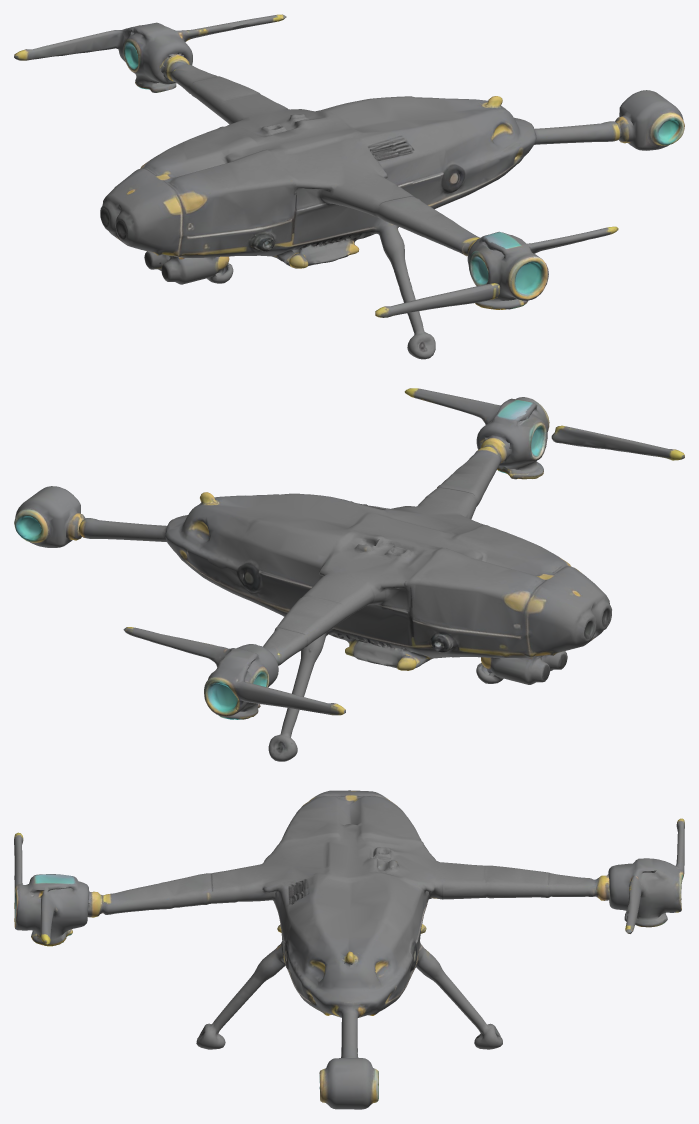
File: drone.glb
3 renders of one model, top to bottom at view 1: azimuth 30°, elevation 25°; view 2: azimuth 150°, elevation 25°; view 3: azimuth 270°, elevation 25°, orthographic. The views are drawn at different scales.
Visible parts, largest first — view 1: geometry_0_PBRMaterial_0; view 2: geometry_0_PBRMaterial_0; view 3: geometry_0_PBRMaterial_0.
Part boxes in pixels (x1,y1,x2,y2): geometry_0_PBRMaterial_0: [14, 14, 684, 359]; geometry_0_PBRMaterial_0: [14, 388, 684, 761]; geometry_0_PBRMaterial_0: [14, 790, 684, 1109].
Size of the model in its own units: 0.0184 by 0.00572 by 0.0199.
Materials: 1 (1 with a texture image).
